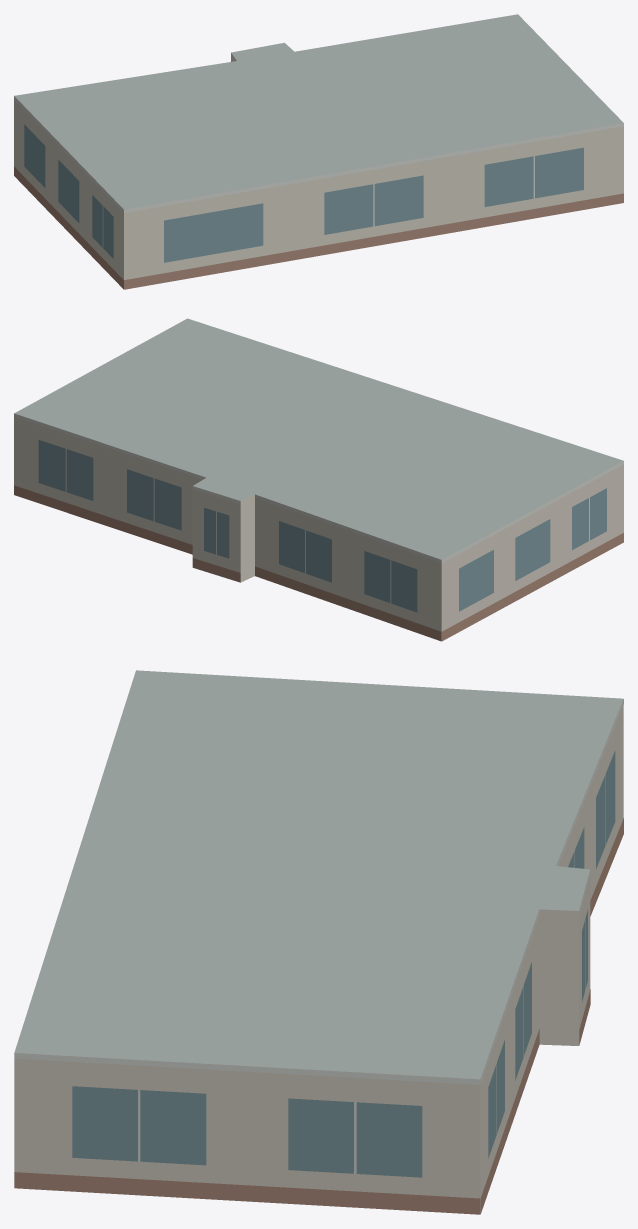
Rendered from survey-upis-32613125.glb.
3 views of the same model, one above another, from view 1: azimuth 30°, elevation 25°; view 2: azimuth 150°, elevation 25°; view 3: azimuth 270°, elevation 25° (orthographic). The views are drawn at different scales.
Parts seen in each view (by area): view 1: survey-upis-32613125.tmp; view 2: survey-upis-32613125.tmp; view 3: survey-upis-32613125.tmp.
Part boxes in pixels (x1,y1,x2,y2): survey-upis-32613125.tmp: (14, 14, 623, 289); survey-upis-32613125.tmp: (14, 318, 623, 641); survey-upis-32613125.tmp: (14, 670, 623, 1214).
Size of the model in its own units: 19.8 by 3.05 by 12.47.
